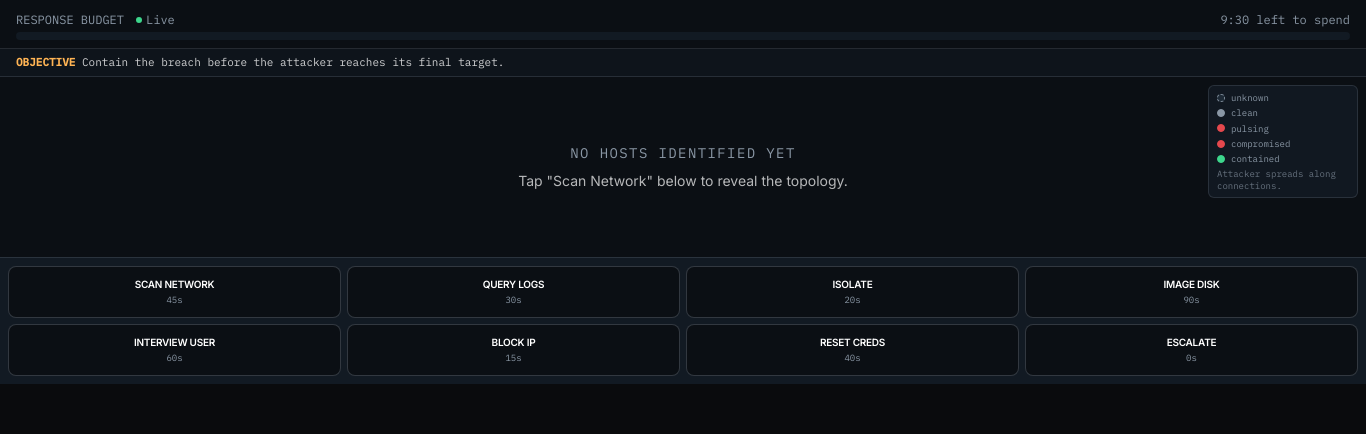
ActionConsole › per-verb coachmarks › opens host-target UI on first use while showing the coachmark
Step 1. Click the text "Query Logs" → {"x": 514, "y": 284}, box [483,278,544,291]
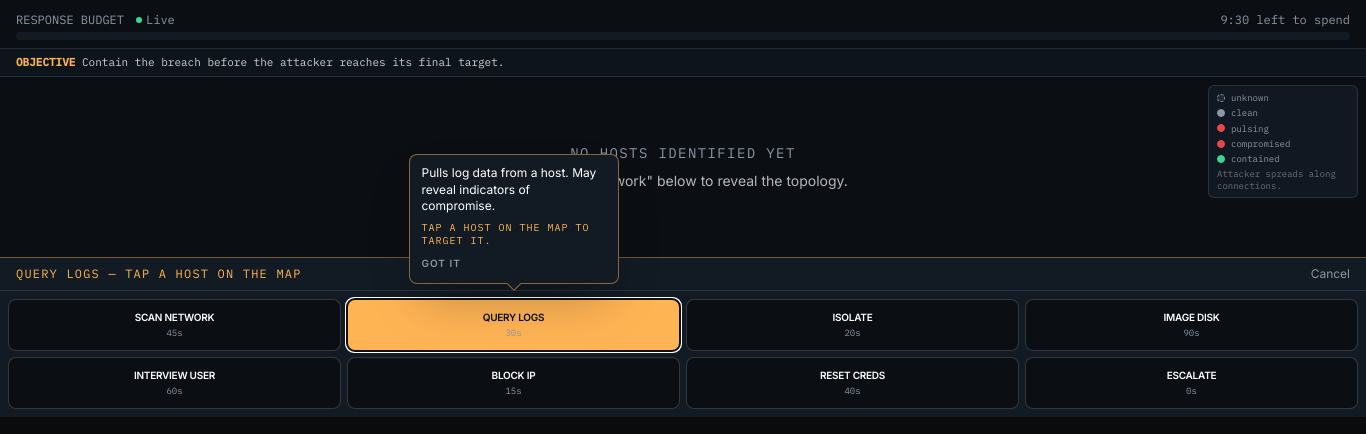
Now the tooltip shows "Pulls log data from a host. May reveal indicators of compromise.", box [422,165,596,213]
Now the tooltip shows "Tap a host on the map to target it.", box [422,221,590,247]
Now the text "Query Logs — tap a host on the map" is shown, box [16,266,302,282]
